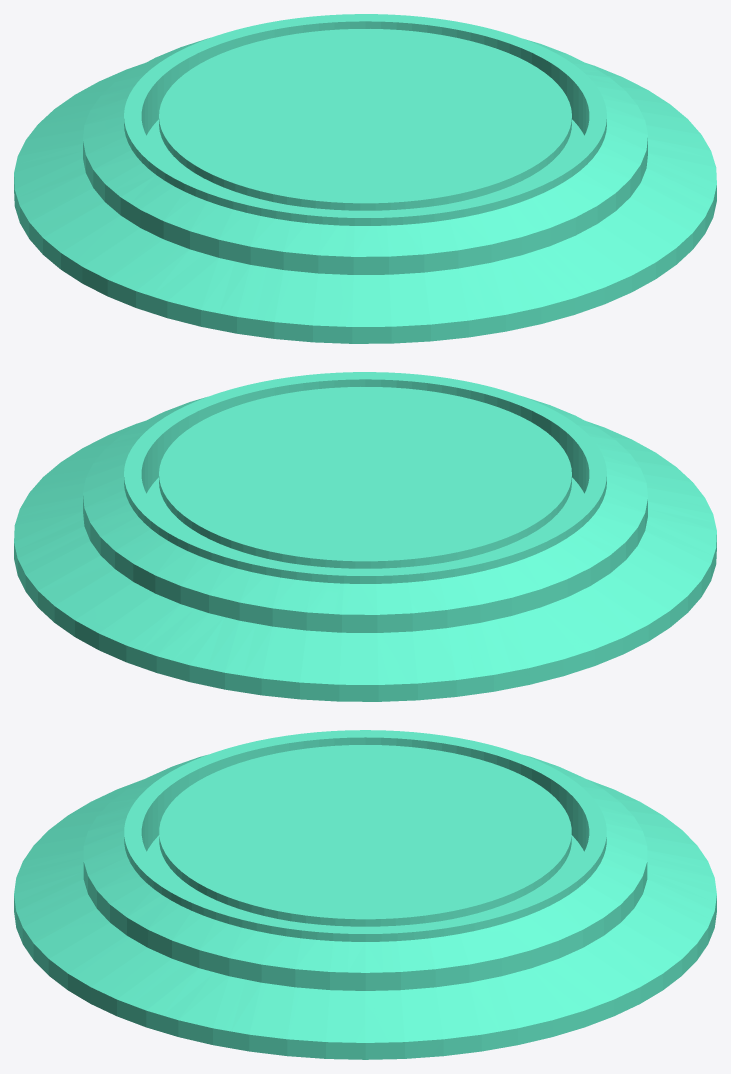
Rendered from platform.fbx.
3 views of the same model, one above another, from view 1: azimuth 30°, elevation 25°; view 2: azimuth 150°, elevation 25°; view 3: azimuth 270°, elevation 25° (orthographic).
Visible parts, largest first — view 1: StaticMesh4; view 2: StaticMesh4; view 3: StaticMesh4.
Part boxes in pixels (bbox=[...]): StaticMesh4: bbox=[14, 14, 716, 343]; StaticMesh4: bbox=[14, 372, 716, 701]; StaticMesh4: bbox=[14, 730, 716, 1059].
Bounding box in the file's own units: 224 × 27.89 × 224.
